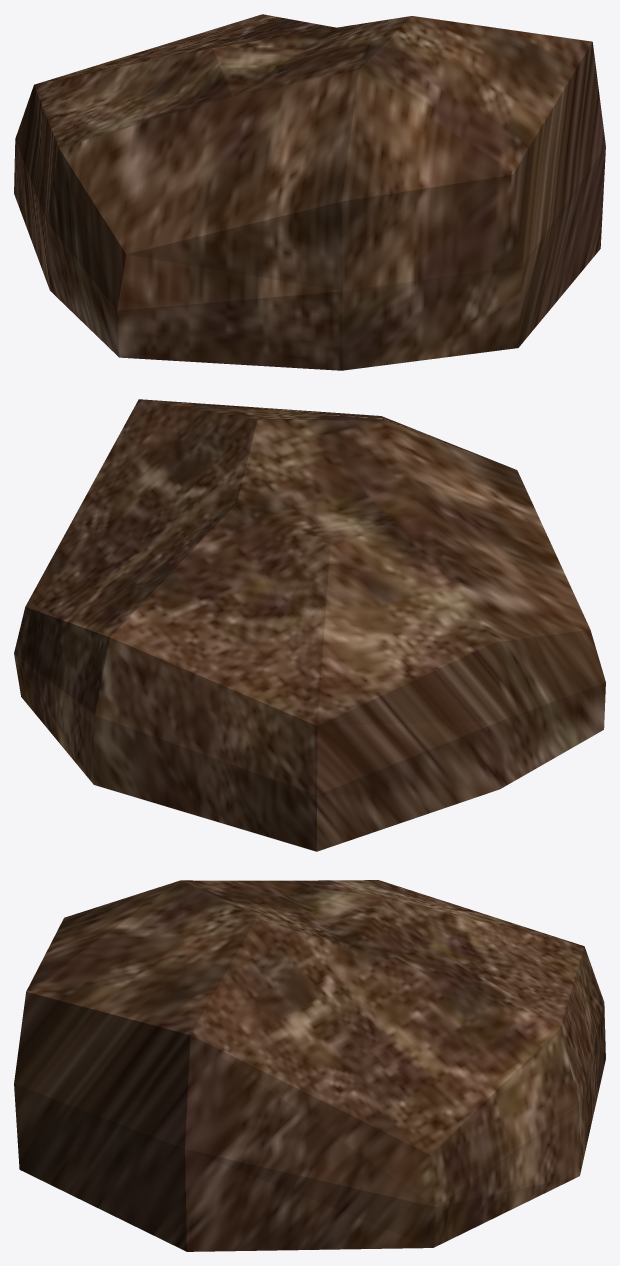
File: SandRock1_modified.gltf
The picture shows the model from 3 angles, top to bottom: view 1: azimuth 30°, elevation 25°; view 2: azimuth 150°, elevation 25°; view 3: azimuth 270°, elevation 25°; orthographic projection. The views are drawn at different scales.
Parts seen in each view (by area): view 1: SandRock1_modified; view 2: SandRock1_modified; view 3: SandRock1_modified.
Boxes of the visible parts, <box> form: SandRock1_modified: <box>14,14,605,370</box>; SandRock1_modified: <box>14,399,605,851</box>; SandRock1_modified: <box>14,880,605,1251</box>.
Bounding box in the file's own units: 80.5 × 39.57 × 83.58.
1 material, 1 textured.
